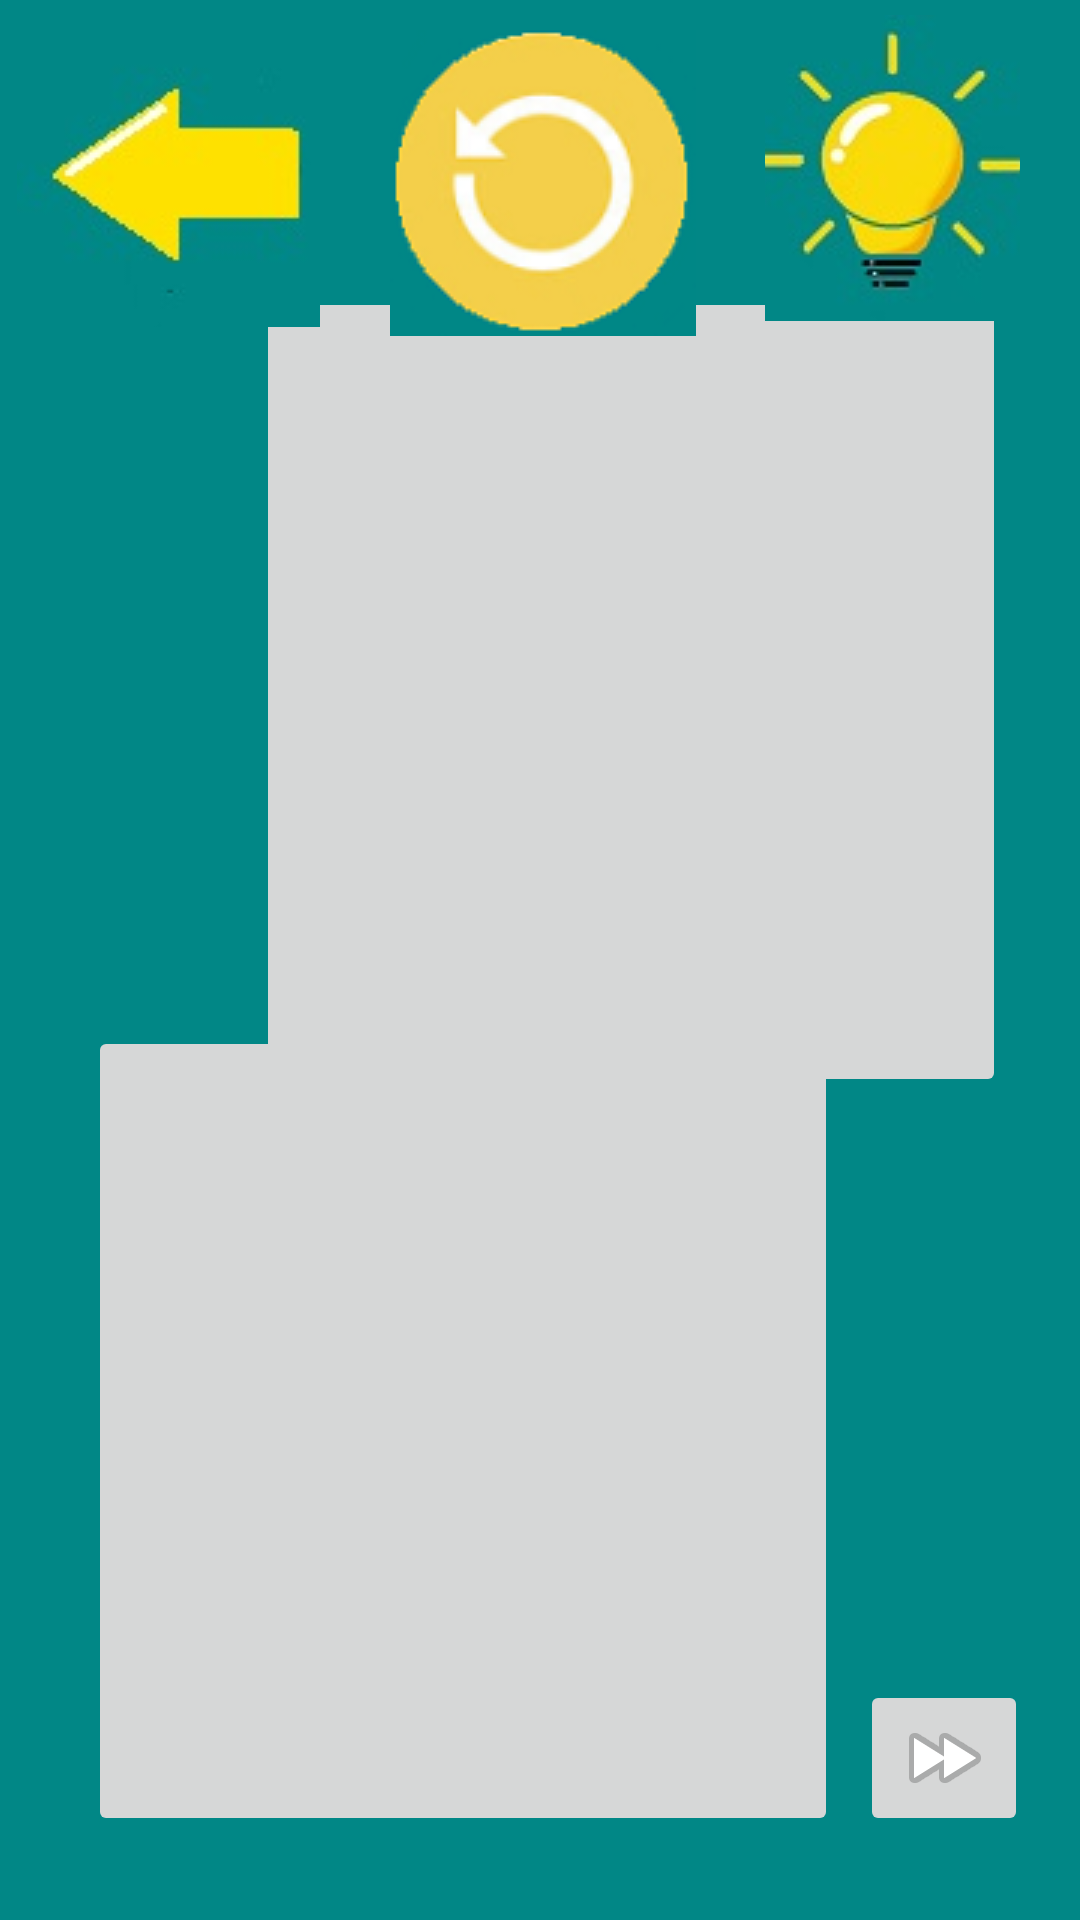

Where to tap for icons on this 1080px x 1920px app screen, as (x,y):
back ready: (176,188)
help ready: (892,160)
replay ready: (541,181)
